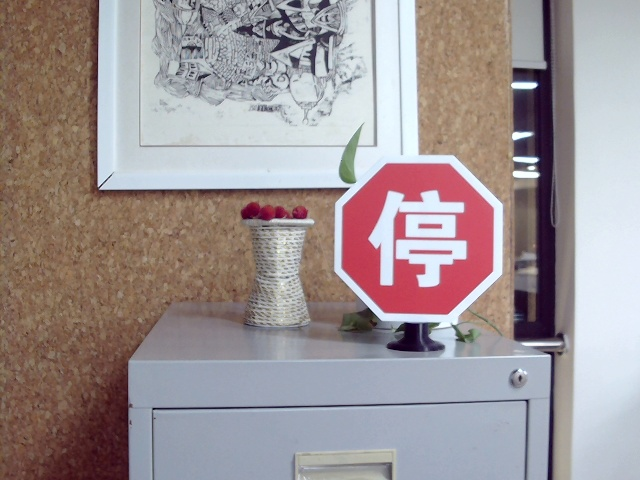stop: (365, 184, 473, 288)
